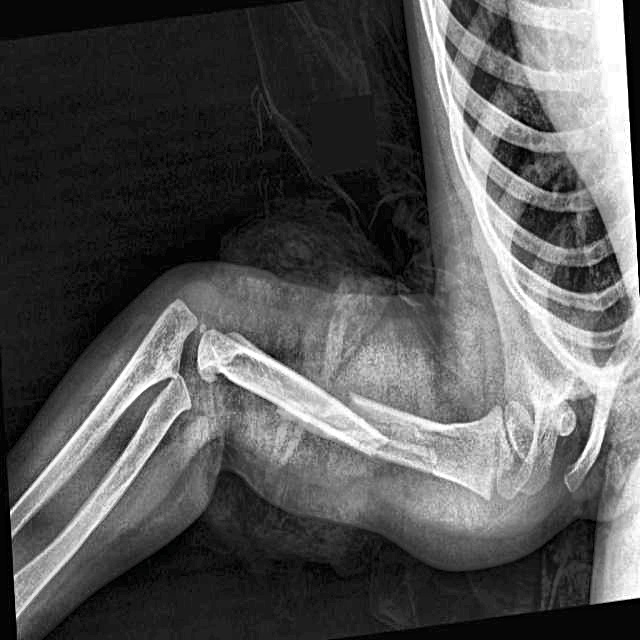Transverse: (319, 372, 403, 475)
